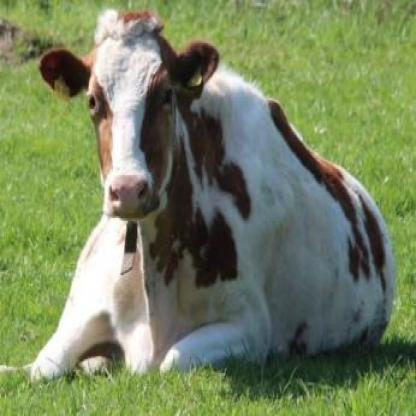cow: (30, 10, 393, 383)
